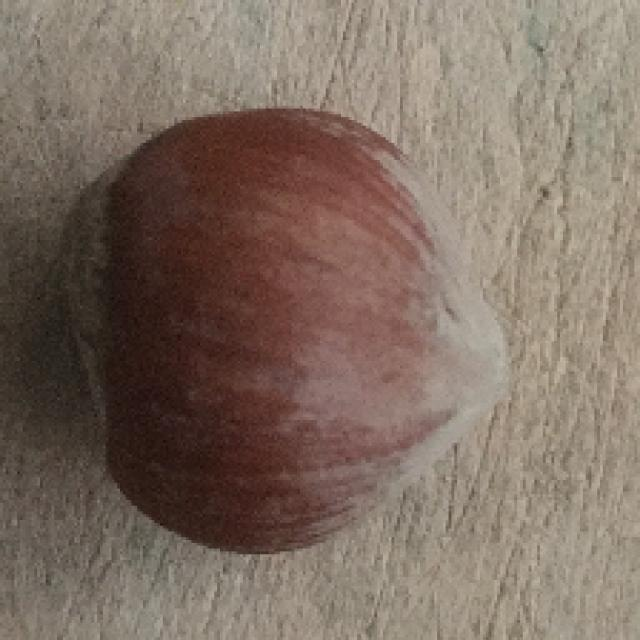QualityHazelnut: (53, 107, 511, 558)
